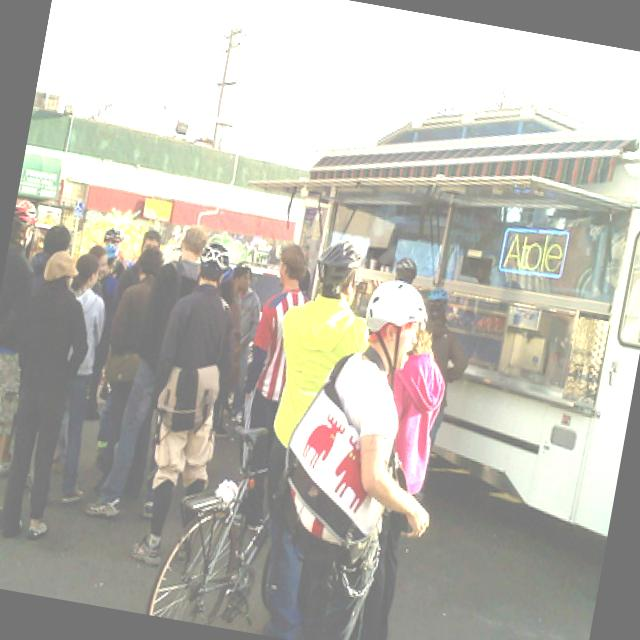Vehicle: (249, 65, 640, 559)
